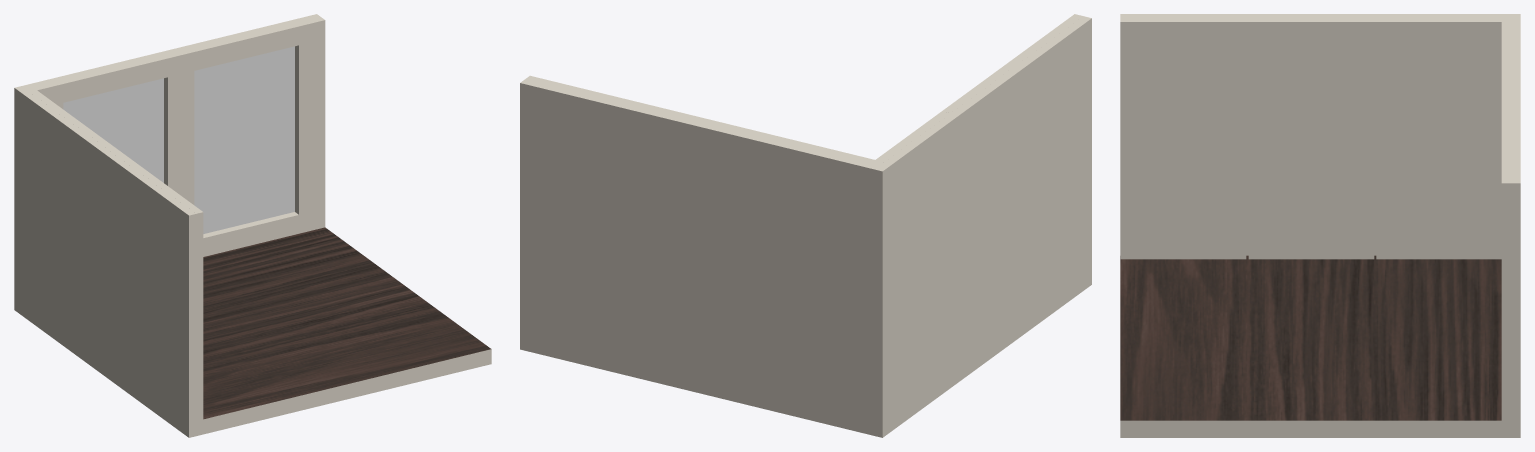
Rendered from Room.fbx.
3 renders of one model, left to right at view 1: azimuth 30°, elevation 25°; view 2: azimuth 150°, elevation 25°; view 3: azimuth 270°, elevation 25°, orthographic. The views are drawn at different scales.
Visible parts, largest first — view 1: Room; view 2: Room; view 3: Room.
Boxes of the visible parts, x1=… form: Room: x1=14, y1=14, x2=491, y2=437; Room: x1=520, y1=14, x2=1091, y2=437; Room: x1=1120, y1=14, x2=1520, y2=437.
Size of the model in its own units: 840 by 590 by 840.
